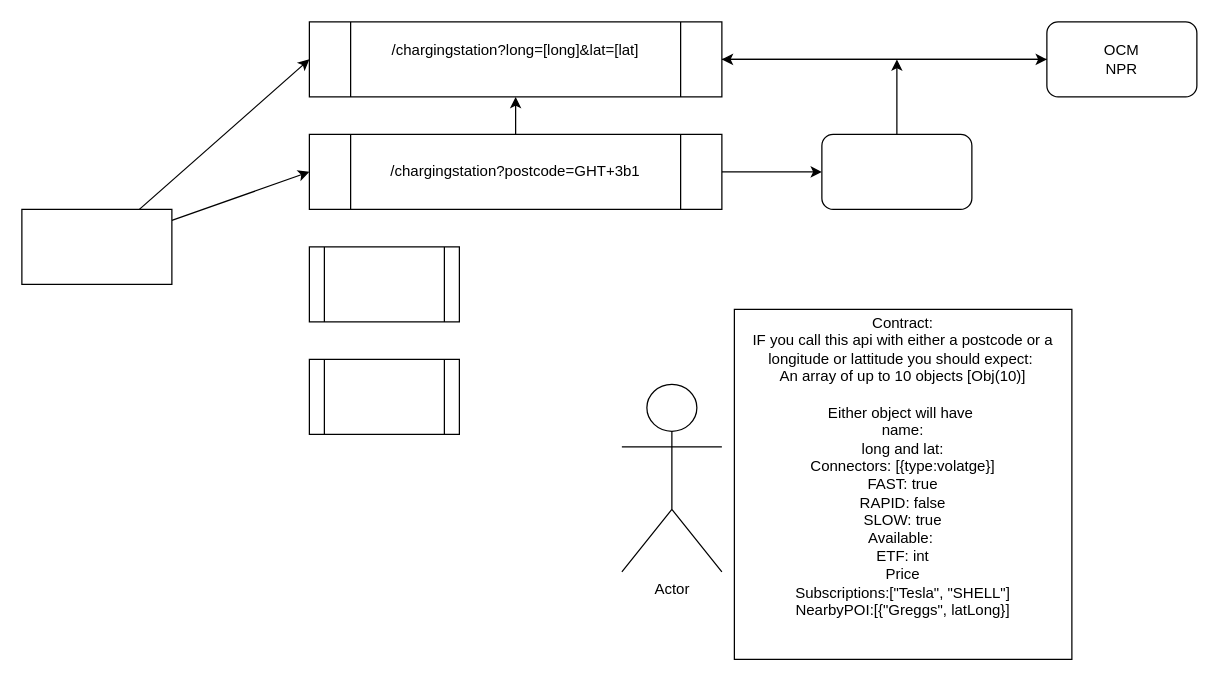
The diagram is 1219 pixels wide and 681 high, and some of its shapes have lost their labels. The shapes that lost their labels are listed below. From the top down, each one's centre as x and y in pixels, then its label:
(896,171): Postcode.io
(96,246): /api/
